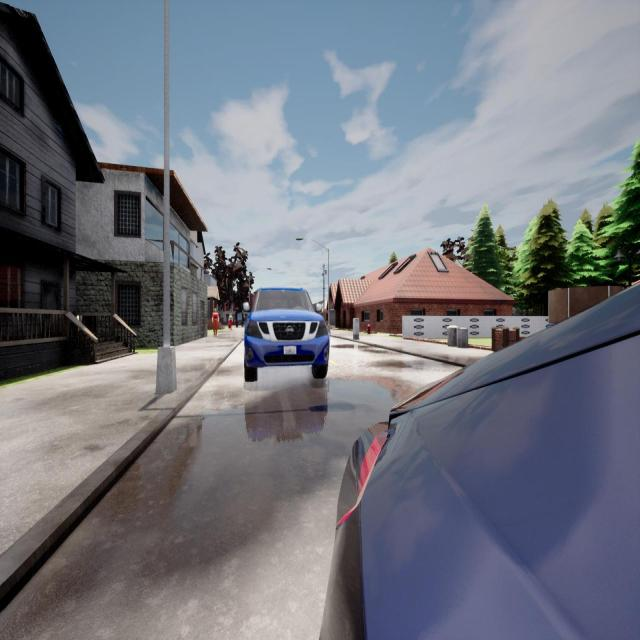Pedestrian: (212, 308, 219, 337), (228, 312, 234, 331)
Vehicle: (321, 286, 640, 640), (243, 288, 329, 381)
